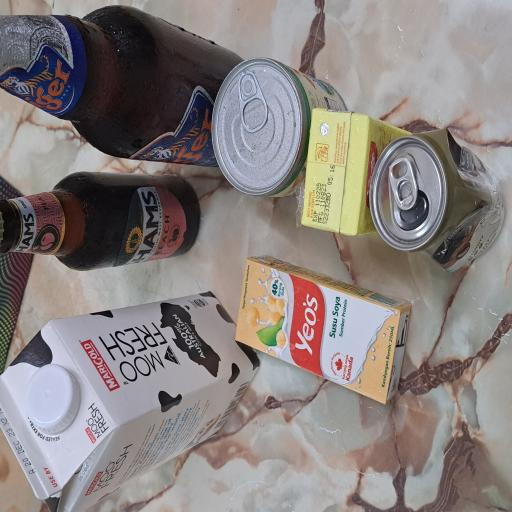can: (235, 280, 343, 463)
drink carton: (0, 0, 164, 350), (82, 314, 191, 512), (207, 397, 300, 512)
glass bottle: (259, 0, 381, 324), (181, 0, 255, 267), (58, 32, 109, 108)
pop tab: (285, 312, 333, 362)
